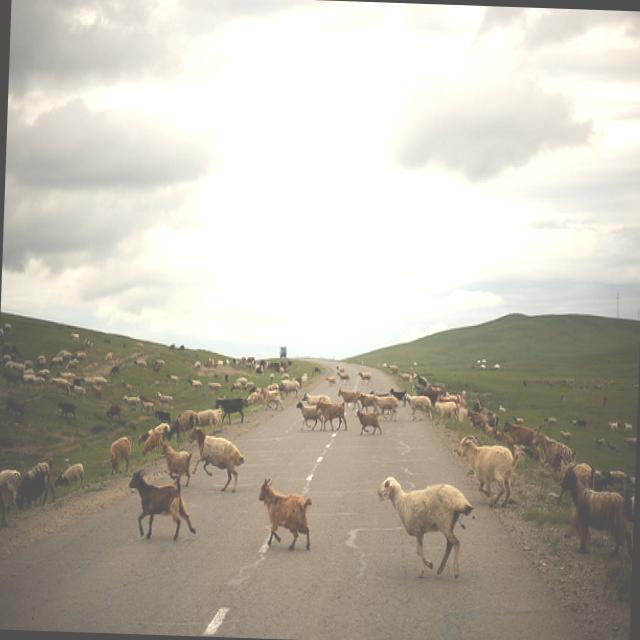Vehicle: (278, 345, 286, 359)
